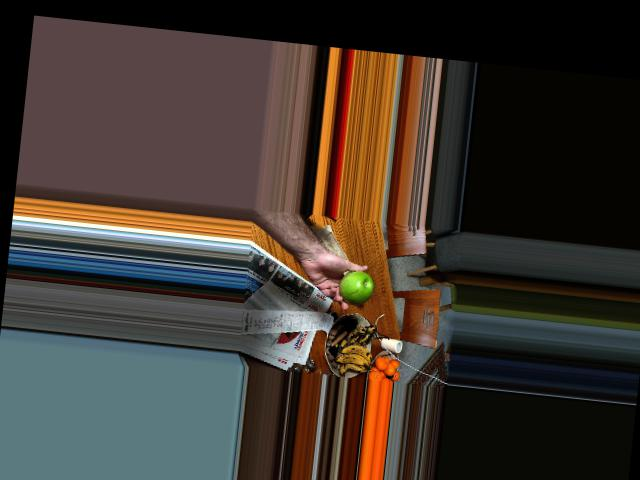apple: (336, 270, 377, 306)
